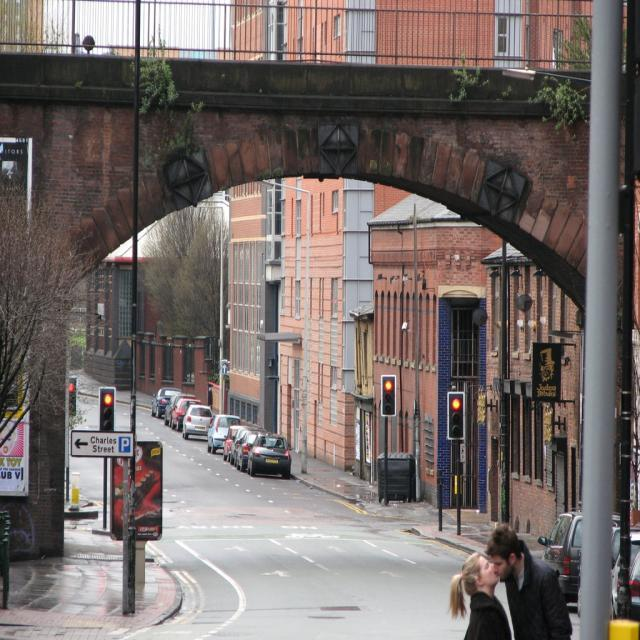traffic light: (447, 391, 466, 441), (99, 388, 115, 432), (381, 374, 396, 416)
